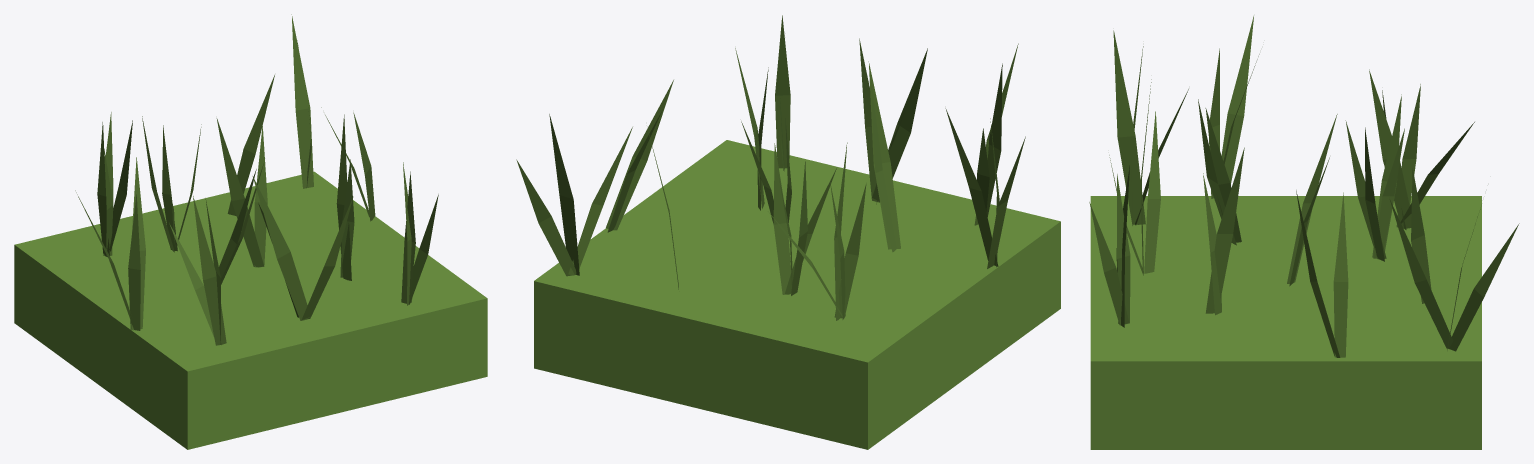
The model's file is BlokTrawy.glb.
The picture shows the model from 3 angles, left to right: view 1: azimuth 30°, elevation 25°; view 2: azimuth 150°, elevation 25°; view 3: azimuth 270°, elevation 25°; orthographic projection. The views are drawn at different scales.
Parts seen in each view (by area): view 1: Cube.001, Plane.032, Plane.011, Plane.036, Plane.022, Plane.039, Plane.013, Plane.005, Plane.034, Plane.023, Plane.003, Plane.009 (+11 smaller); view 2: Cube.001, Plane.021, Plane.018, Plane.032, Plane.004, Plane.011, Plane.020, Plane.031, Plane.003, Plane.008, Plane.002, Plane.036 (+9 smaller); view 3: Cube.001, Plane.024, Plane.015, Plane.007, Plane.005, Plane.035, Plane.008, Plane.014, Plane.020, Plane.033, Plane.013, Plane.009 (+14 smaller).
Boxes of the visible parts, x1,y1,x2,y2 form: Cube.001: (14, 171, 487, 449); Plane.032: (291, 14, 313, 188); Plane.011: (252, 176, 310, 320); Plane.036: (193, 196, 226, 345); Plane.022: (216, 118, 263, 267); Plane.039: (128, 194, 140, 330); Plane.013: (227, 75, 274, 215); Plane.005: (336, 114, 351, 280); Plane.034: (254, 125, 267, 267); Plane.023: (301, 196, 353, 320); Plane.003: (131, 157, 145, 330); Plane.009: (401, 171, 415, 303); Cube.001: (534, 140, 1060, 449); Plane.021: (775, 15, 790, 168); Plane.018: (868, 61, 900, 249); Plane.032: (549, 114, 579, 275); Plane.004: (773, 143, 791, 294); Plane.011: (872, 48, 927, 201); Plane.020: (516, 159, 576, 276); Plane.031: (606, 80, 673, 230); Plane.003: (945, 108, 998, 266); Plane.008: (568, 127, 632, 275); Plane.002: (834, 183, 866, 318); Plane.036: (986, 63, 1002, 216); Cube.001: (1090, 196, 1481, 449); Plane.024: (1113, 30, 1145, 224); Plane.015: (1221, 16, 1253, 184); Plane.007: (1333, 192, 1348, 357); Plane.005: (1205, 147, 1244, 313); Plane.035: (1144, 111, 1160, 273); Plane.008: (1389, 199, 1453, 348); Plane.014: (1369, 69, 1411, 228); Plane.020: (1449, 223, 1519, 351); Plane.033: (1089, 202, 1128, 324); Plane.013: (1411, 168, 1431, 303); Plane.009: (1117, 174, 1130, 325).
Size of the model in its own units: 2.28 by 1.53 by 2.2.
